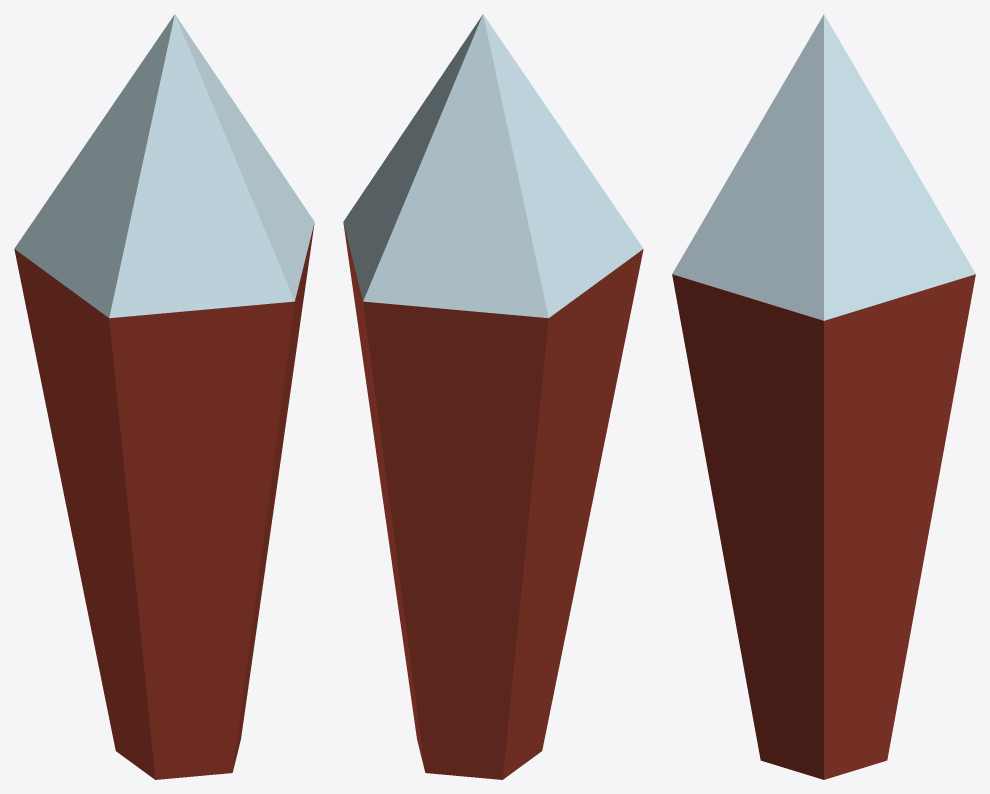
The model's file is SM_Env_Dungeon_Crystal_02_Snow.glb.
The picture shows the model from 3 angles, left to right: view 1: azimuth 30°, elevation 25°; view 2: azimuth 150°, elevation 25°; view 3: azimuth 270°, elevation 25°; orthographic projection.
Parts seen in each view (by area): view 1: SM_Env_Dungeon_Crystal_02_Snow; view 2: SM_Env_Dungeon_Crystal_02_Snow; view 3: SM_Env_Dungeon_Crystal_02_Snow.
Part boxes in pixels (x1,y1,x2,y2): SM_Env_Dungeon_Crystal_02_Snow: (14, 14, 314, 779); SM_Env_Dungeon_Crystal_02_Snow: (343, 14, 643, 779); SM_Env_Dungeon_Crystal_02_Snow: (672, 14, 975, 779).
Bounding box in the file's own units: 0.2113 × 0.5922 × 0.2222.
1 material, 1 textured.
